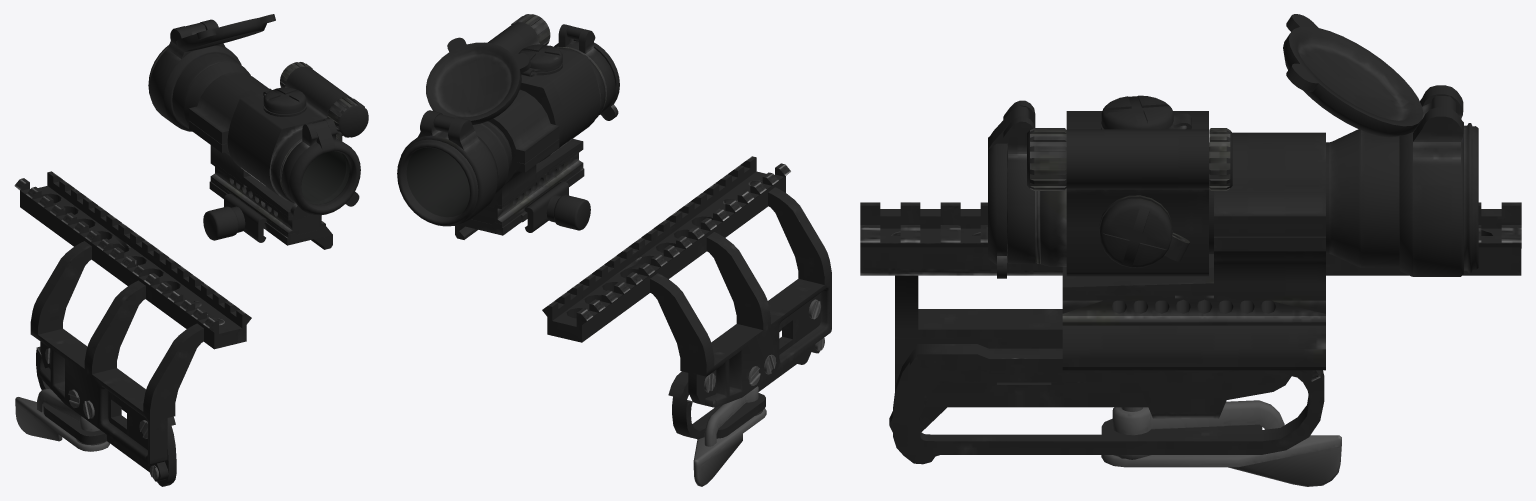
Rendered from att_pica_optic.glb.
3 renders of one model, left to right at view 1: azimuth 30°, elevation 25°; view 2: azimuth 150°, elevation 25°; view 3: azimuth 270°, elevation 25°, orthographic. The views are drawn at different scales.
Visible parts, largest first — view 1: SideMount_picantiny.003, Cylinder.003; view 2: SideMount_picantiny.003, Cylinder.003; view 3: Cylinder.003, SideMount_picantiny.003.
Boxes of the visible parts, x1,y1,x2,y2 form: SideMount_picantiny.003: [14, 171, 251, 486]; Cylinder.003: [148, 14, 368, 249]; SideMount_picantiny.003: [542, 156, 831, 486]; Cylinder.003: [397, 14, 619, 239]; Cylinder.003: [988, 14, 1478, 370]; SideMount_picantiny.003: [860, 202, 1521, 486].
Bounding box in the file's own units: 0.1295 × 0.1715 × 0.1659.
Materials: 4 (2 with a texture image).
